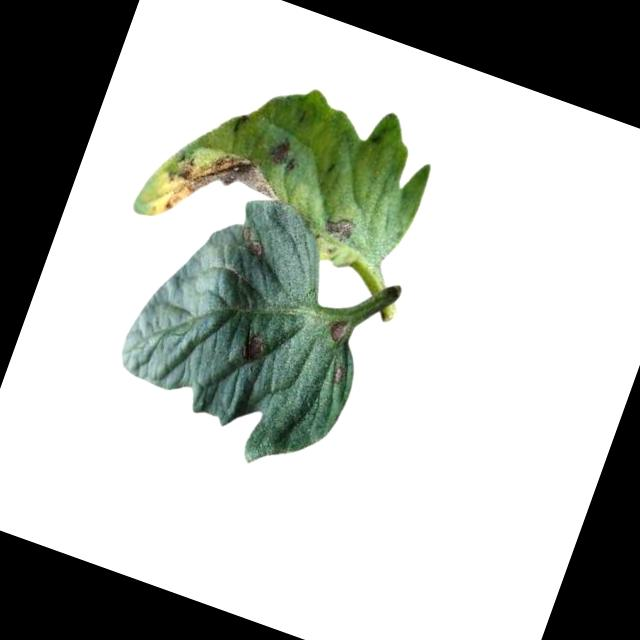Early_blight: (158, 133, 282, 241), (264, 133, 302, 171), (237, 329, 270, 367), (325, 210, 357, 244), (237, 227, 270, 256), (325, 313, 354, 345), (328, 361, 351, 386)
